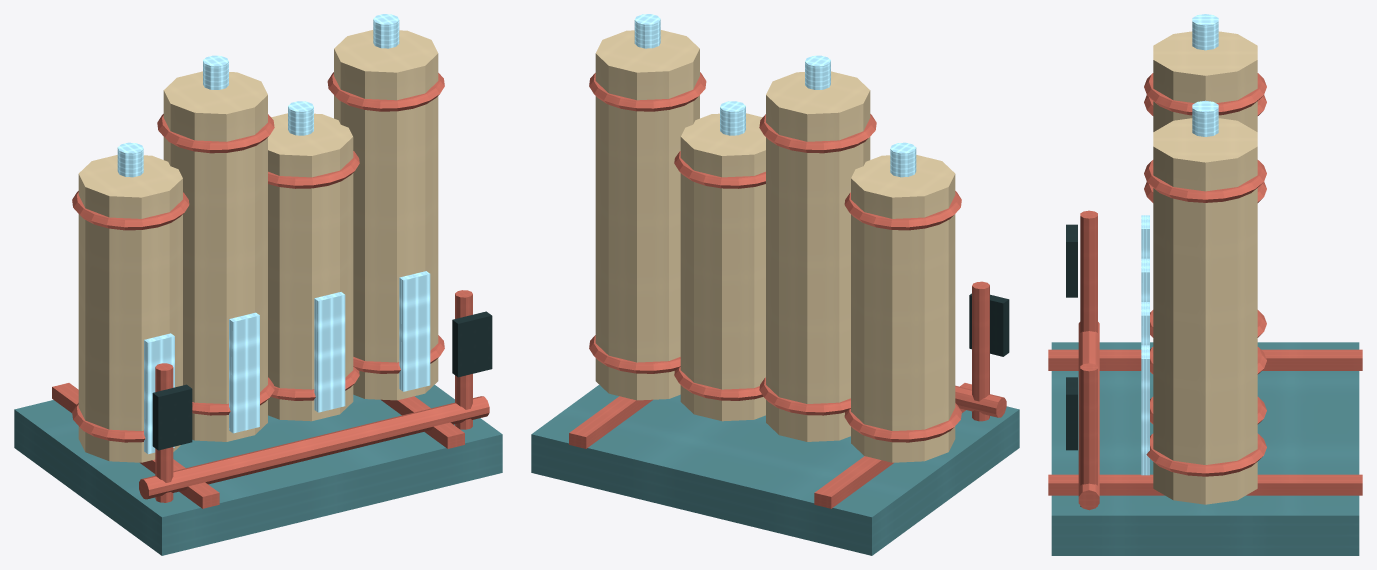
Rendered from atlas100-s078-a04.lod1.glb.
3 views of the same model, side by side, from view 1: azimuth 30°, elevation 25°; view 2: azimuth 150°, elevation 25°; view 3: azimuth 270°, elevation 25° (orthographic). The views are drawn at different scales.
Visible parts, largest first — view 1: atlas100-s078-a04:part-000, atlas100-s078-a04:part-018, atlas100-s078-a04:part-008, atlas100-s078-a04:part-003, atlas100-s078-a04:part-013, atlas100-s078-a04:part-027, atlas100-s078-a04:part-017, atlas100-s078-a04:part-022, atlas100-s078-a04:part-012, atlas100-s078-a04:part-026, atlas100-s078-a04:part-024, atlas100-s078-a04:part-007 (+16 smaller); view 2: atlas100-s078-a04:part-000, atlas100-s078-a04:part-018, atlas100-s078-a04:part-008, atlas100-s078-a04:part-003, atlas100-s078-a04:part-013, atlas100-s078-a04:part-023, atlas100-s078-a04:part-001, atlas100-s078-a04:part-002, atlas100-s078-a04:part-020, atlas100-s078-a04:part-010, atlas100-s078-a04:part-005, atlas100-s078-a04:part-004 (+10 smaller); view 3: atlas100-s078-a04:part-018, atlas100-s078-a04:part-000, atlas100-s078-a04:part-008, atlas100-s078-a04:part-002, atlas100-s078-a04:part-001, atlas100-s078-a04:part-025, atlas100-s078-a04:part-023, atlas100-s078-a04:part-027, atlas100-s078-a04:part-020, atlas100-s078-a04:part-019, atlas100-s078-a04:part-010, atlas100-s078-a04:part-022 (+7 smaller).
Boxes of the visible parts, x1,y1,x2,y2 form: atlas100-s078-a04:part-000: (14, 384, 502, 555); atlas100-s078-a04:part-018: (334, 30, 438, 400); atlas100-s078-a04:part-008: (163, 71, 267, 441); atlas100-s078-a04:part-003: (78, 155, 182, 462); atlas100-s078-a04:part-013: (268, 113, 353, 421); atlas100-s078-a04:part-027: (139, 396, 489, 499); atlas100-s078-a04:part-017: (314, 292, 345, 412); atlas100-s078-a04:part-022: (399, 271, 430, 391); atlas100-s078-a04:part-012: (229, 312, 259, 433); atlas100-s078-a04:part-026: (452, 311, 492, 377); atlas100-s078-a04:part-024: (152, 384, 192, 450); atlas100-s078-a04:part-007: (144, 333, 174, 454); atlas100-s078-a04:part-000: (531, 384, 1019, 555); atlas100-s078-a04:part-018: (595, 30, 699, 400); atlas100-s078-a04:part-008: (766, 71, 870, 441); atlas100-s078-a04:part-003: (851, 155, 955, 462); atlas100-s078-a04:part-013: (680, 113, 765, 421); atlas100-s078-a04:part-023: (972, 281, 989, 421); atlas100-s078-a04:part-001: (814, 383, 971, 508); atlas100-s078-a04:part-002: (569, 396, 652, 448); atlas100-s078-a04:part-020: (589, 72, 706, 111); atlas100-s078-a04:part-010: (759, 114, 876, 153); atlas100-s078-a04:part-005: (844, 191, 961, 230); atlas100-s078-a04:part-004: (844, 403, 961, 442); atlas100-s078-a04:part-018: (1153, 118, 1257, 504); atlas100-s078-a04:part-000: (1051, 342, 1359, 555); atlas100-s078-a04:part-008: (1153, 31, 1257, 131); atlas100-s078-a04:part-002: (1048, 474, 1362, 495); atlas100-s078-a04:part-001: (1048, 349, 1362, 370); atlas100-s078-a04:part-025: (1080, 363, 1097, 506); atlas100-s078-a04:part-023: (1080, 210, 1097, 332); atlas100-s078-a04:part-027: (1078, 322, 1099, 510); atlas100-s078-a04:part-020: (1144, 160, 1266, 202); atlas100-s078-a04:part-019: (1146, 433, 1266, 476); atlas100-s078-a04:part-010: (1144, 73, 1266, 115); atlas100-s078-a04:part-022: (1141, 345, 1149, 475).
Size of the model in its own units: 2.52 by 2.76 by 1.84.
Materials: 5 (5 with a texture image).
